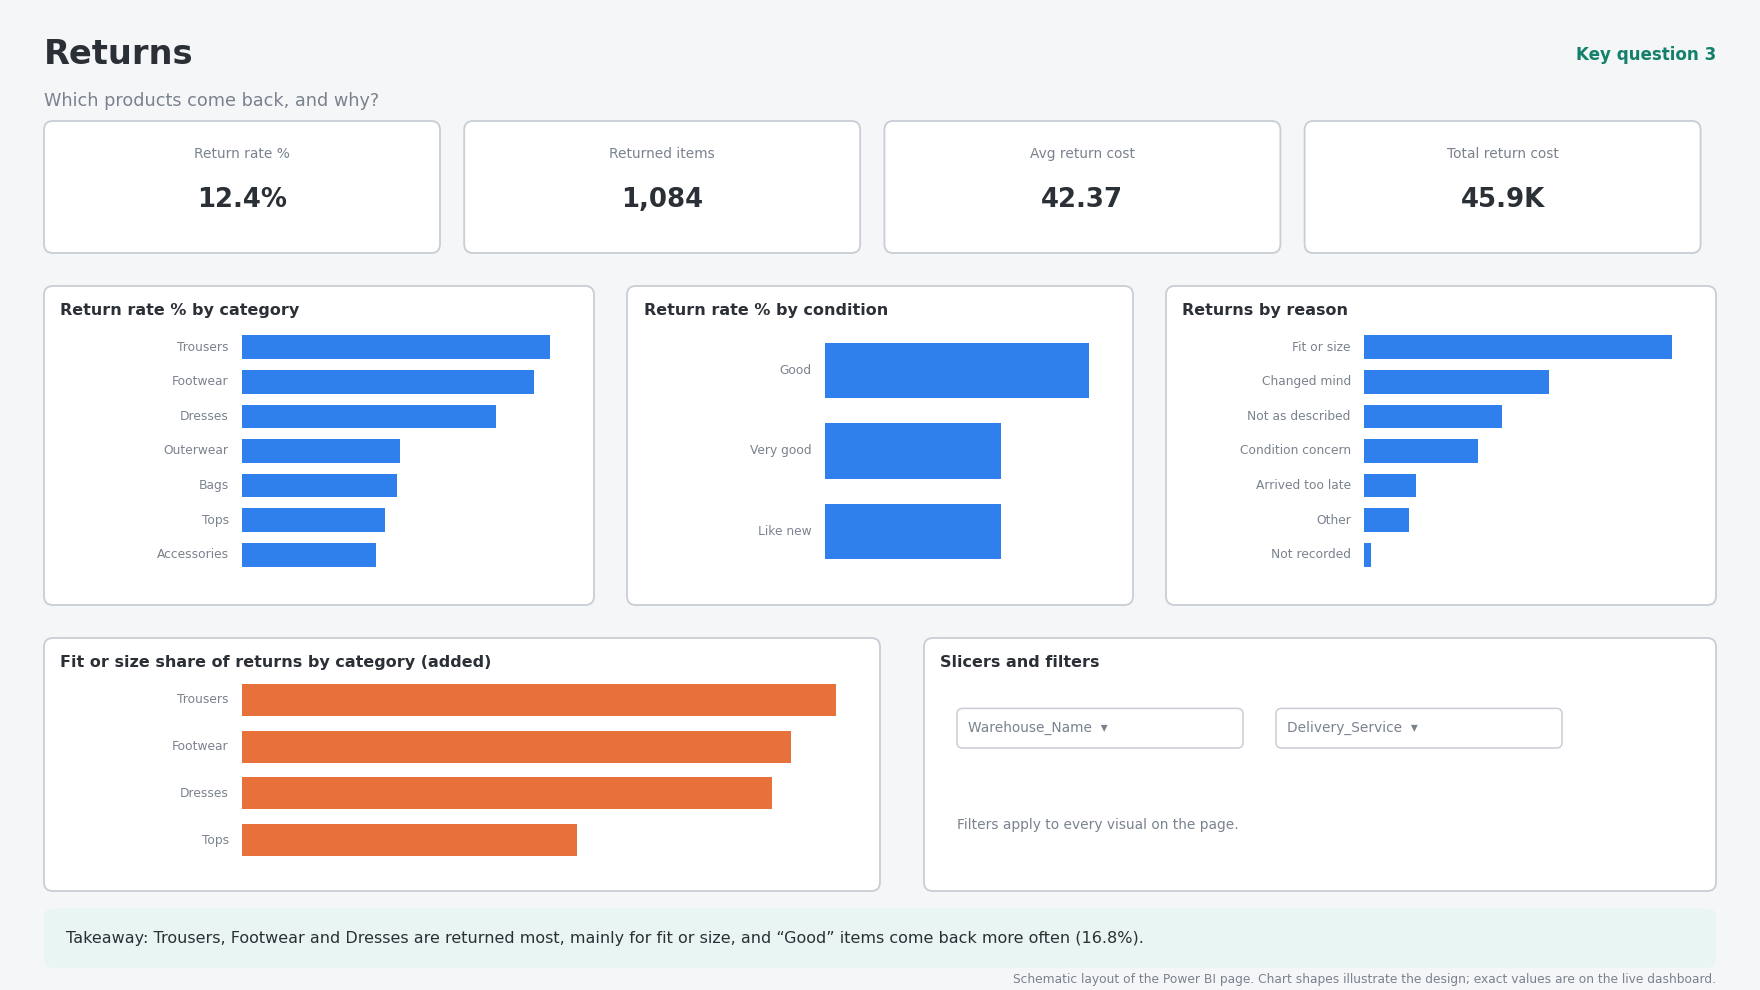

Layout of this report page (visuals, bound fields, positions):
{"tool":"powerbi","page":{"name":"Returns","canvas":[1920,1080],"ordinal":2},"visuals":[{"type":"cardVisual","fields":{"Data":["Measures (2).Total Return Cost"]},"box":[30,175,457.5,120],"z":0},{"type":"cardVisual","fields":{"Data":["Measures (2).Returned Items"]},"box":[972.5,175,450,117.5],"z":1000},{"type":"cardVisual","fields":{"Data":["Measures (2).Return Rate %"]},"box":[1430,175,460,122.5],"z":2000},{"type":"cardVisual","fields":{"Data":["Measures (2).Avg Return Cost"]},"box":[507.5,175,452.5,117.5],"z":3000},{"type":"clusteredBarChart","title":"Fit or size share of returns by category","fields":{"Category":["T_Products.Category"],"Y":["Measures (2).Fit or Size %"]},"box":[972.5,692.5,912.5,357.5],"z":4000},{"type":"barChart","title":"Return rate % by condition","fields":{"Category":["T_Products.Condition"],"Y":["Measures (2).Return Rate %"]},"box":[972.5,312.5,912.5,362.5],"z":5000},{"type":"clusteredBarChart","title":" Returns by reason","fields":{"Category":["T_Returns.Return_Reason"],"Y":["Measures (2).Returned Items"]},"box":[30,692.5,930,357.5],"z":6000},{"type":"scatterChart","title":"Return rate vs items sold by category","fields":{"Category":["T_Products.Category"],"Size":["Measures (2).Total Return Cost"],"X":["Measures (2).Items Sold"],"Y":["Measures (2).Return Rate %"]},"box":[30,312.5,930,362.5],"z":7000},{"type":"slicer","fields":{"Values":["T_Warehouses.Warehouse_Name"]},"box":[29.6,109.3,444.6,48.2],"z":8000},{"type":"slicer","fields":{"Values":["T_Orders.Delivery_Service"]},"box":[557.5,110,317.5,42.5],"z":9000},{"type":"slicer","fields":{"Values":["Dim_Date.Month"]},"box":[972.5,110,917.5,42.5],"z":10000}]}

Visuals, with their boxes in screenshot pixels (x1, y1, x2, y2), scaled from the page's 1920x1080 canvas onto the 1760x990 screenshot:
cardVisual - Measures (2).Total Return Cost: (28, 160, 447, 270)
cardVisual - Measures (2).Returned Items: (891, 160, 1304, 268)
cardVisual - Measures (2).Return Rate %: (1311, 160, 1732, 273)
cardVisual - Measures (2).Avg Return Cost: (465, 160, 880, 268)
"Fit or size share of returns by category" clusteredBarChart: (891, 635, 1728, 962)
"Return rate % by condition" barChart: (891, 286, 1728, 619)
" Returns by reason" clusteredBarChart: (28, 635, 880, 962)
"Return rate vs items sold by category" scatterChart: (28, 286, 880, 619)
slicer - T_Warehouses.Warehouse_Name: (27, 100, 435, 144)
slicer - T_Orders.Delivery_Service: (511, 101, 802, 140)
slicer - Dim_Date.Month: (891, 101, 1732, 140)
